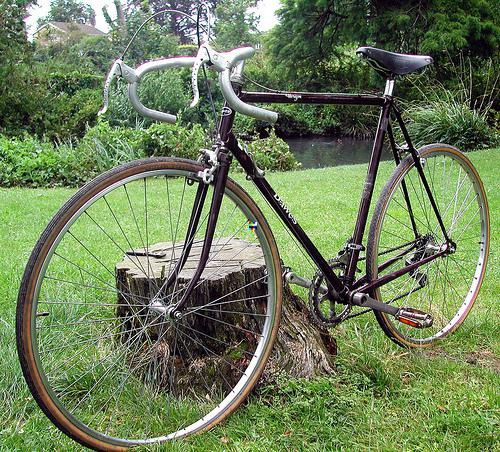car: (17, 1, 490, 452)
